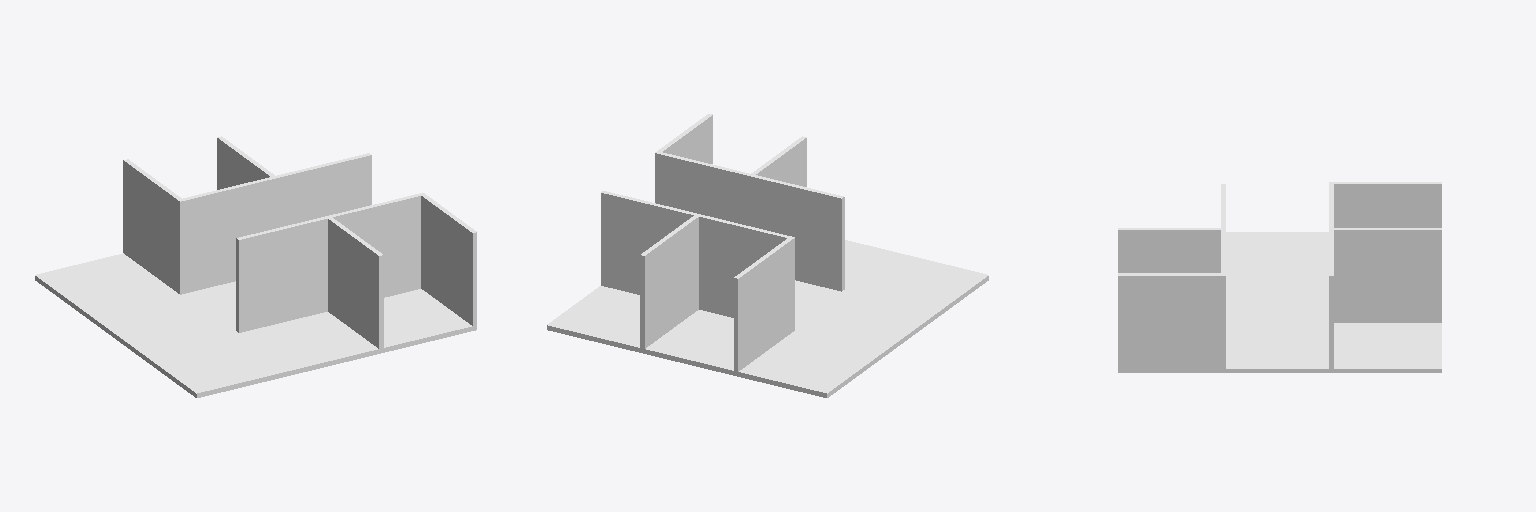
Rendered from level_maze-20.obj.
3 views of the same model, side by side, from view 1: azimuth 30°, elevation 25°; view 2: azimuth 150°, elevation 25°; view 3: azimuth 270°, elevation 25° (orthographic).
Visible parts, largest first — view 1: level_maze-20; view 2: level_maze-20; view 3: level_maze-20.
Part boxes in pixels (x1,y1,x2,y2): level_maze-20: (35, 136, 476, 397); level_maze-20: (547, 114, 988, 397); level_maze-20: (1118, 182, 1441, 372).
Size of the model in its own units: 60 by 20 by 60.